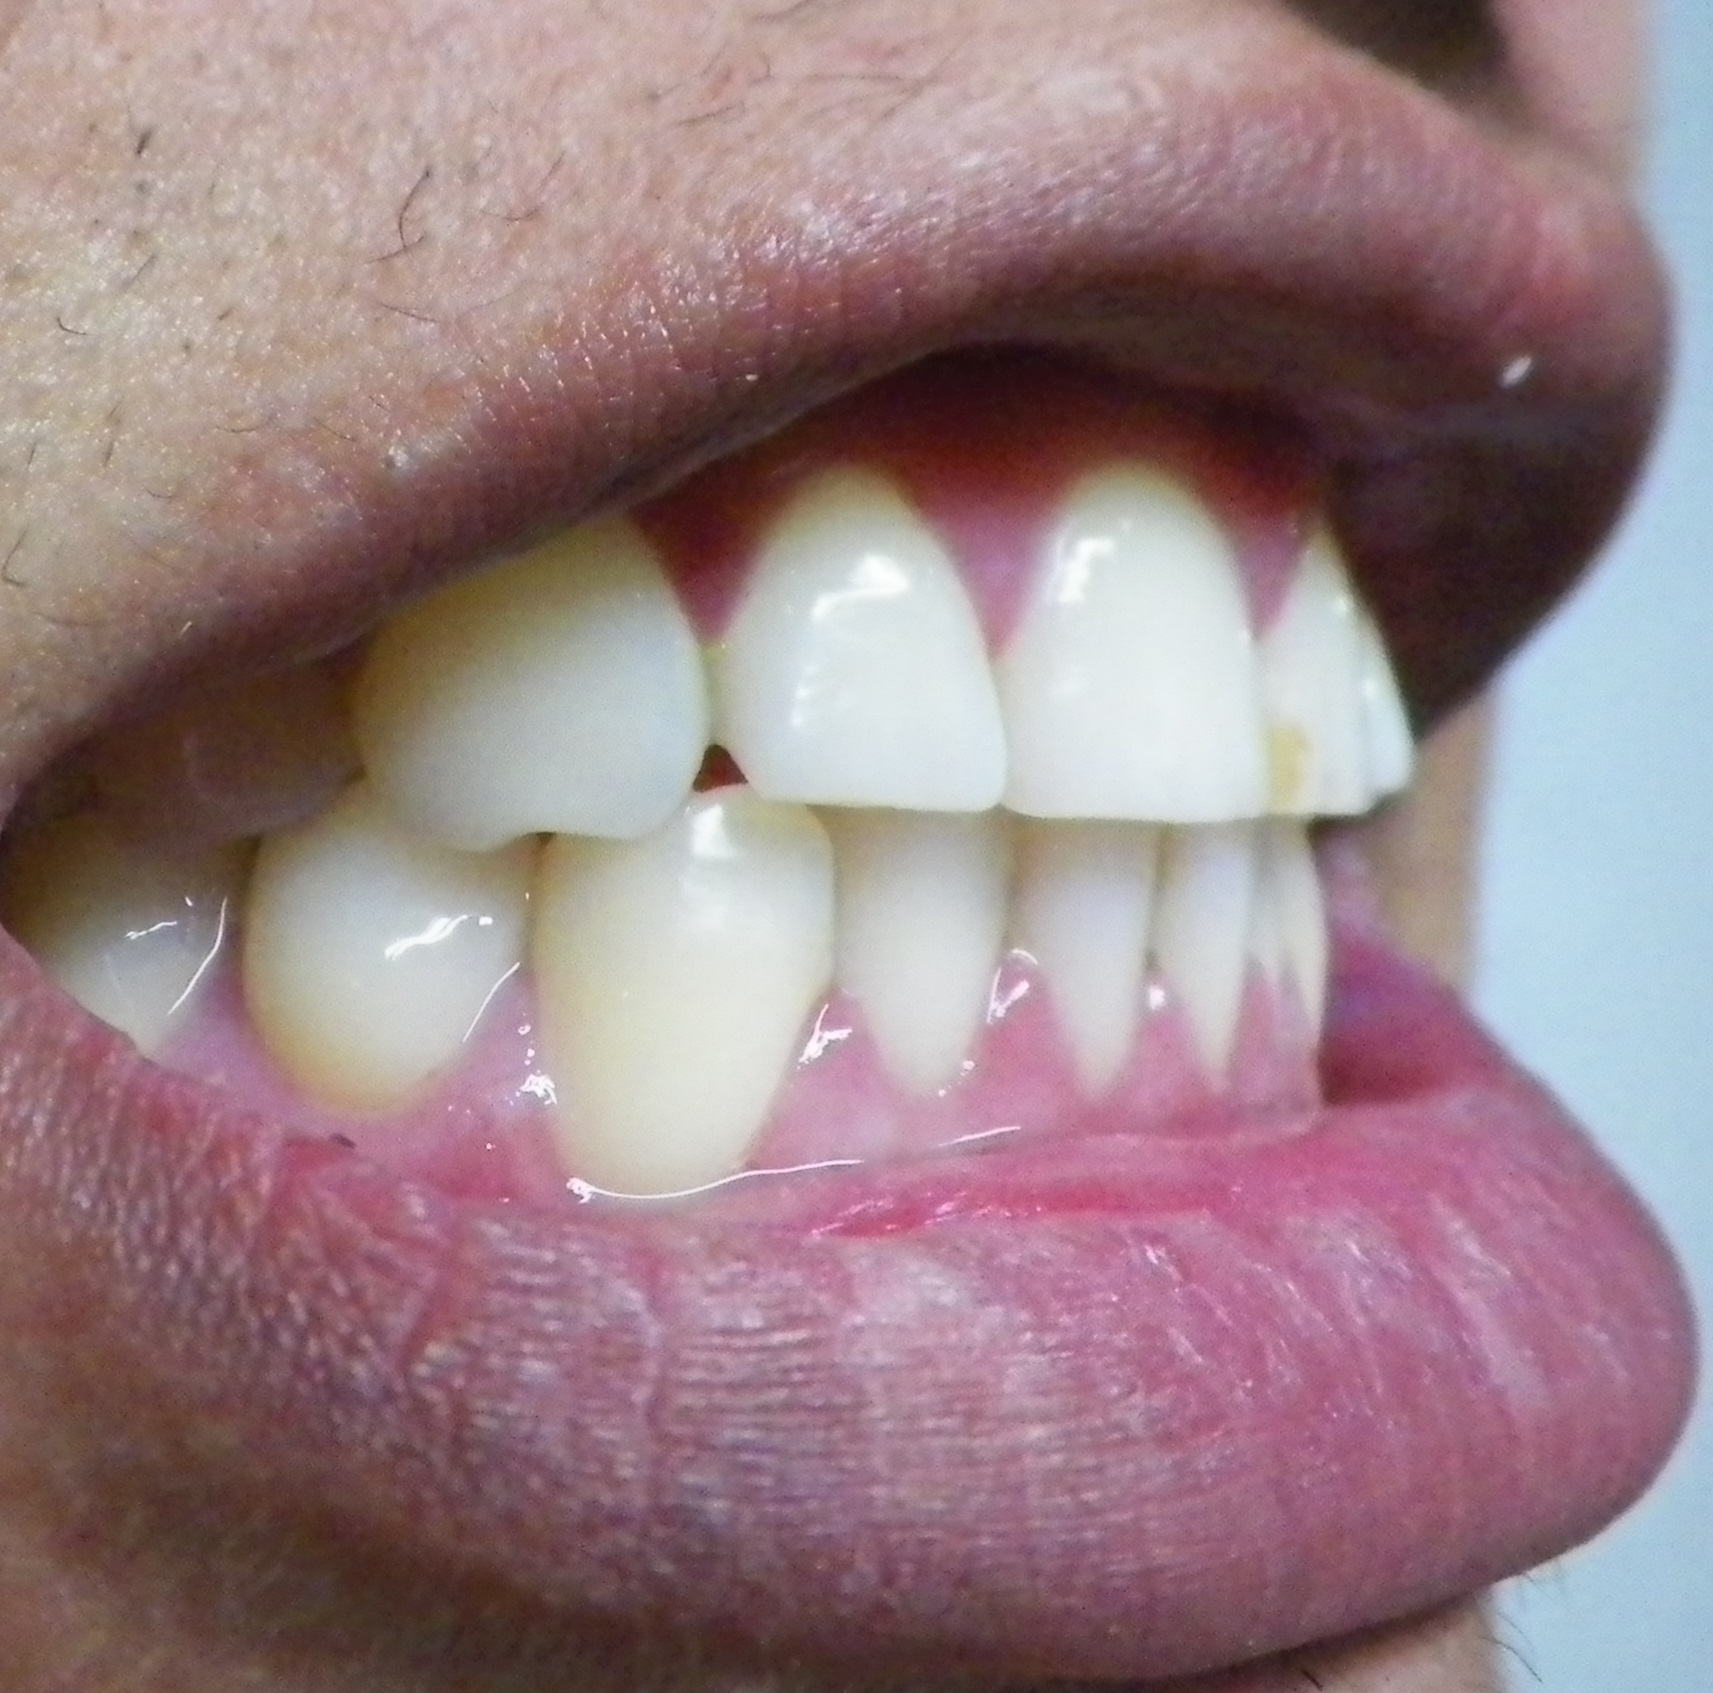boca: (39, 476, 1432, 1174)
